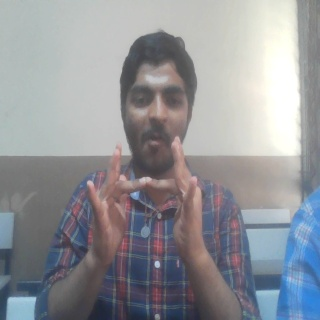Internet: (84, 134, 212, 269)
